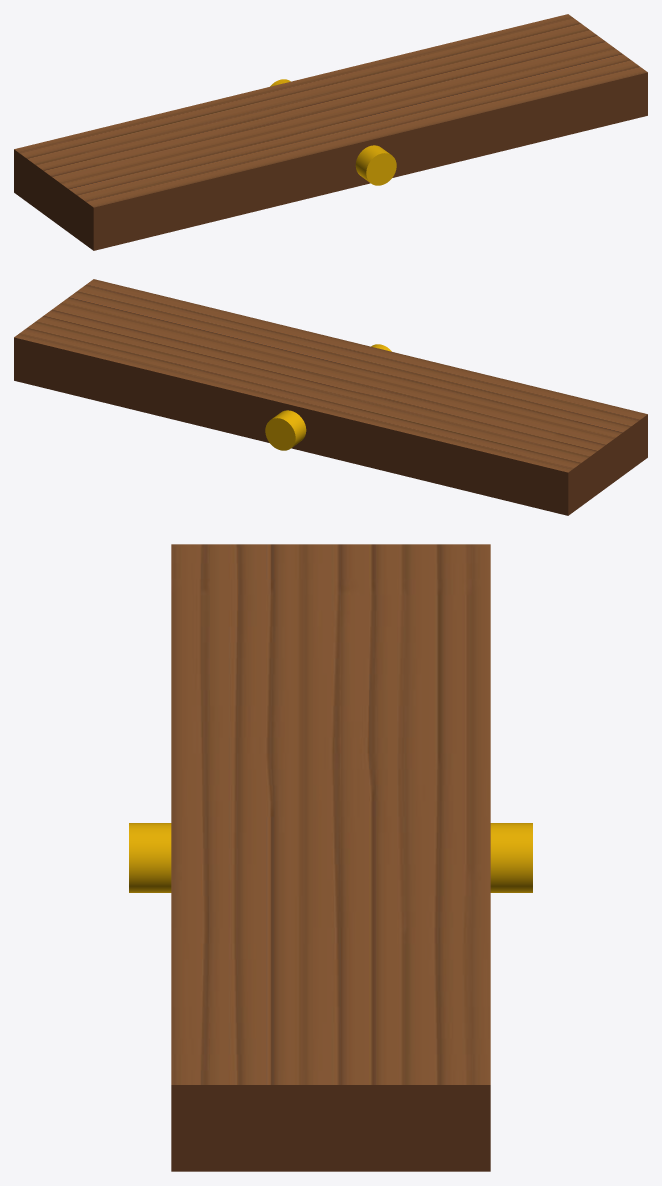
The picture shows the model from 3 angles, top to bottom: view 1: azimuth 30°, elevation 25°; view 2: azimuth 150°, elevation 25°; view 3: azimuth 270°, elevation 25°; orthographic projection. The views are drawn at different scales.
Parts seen in each view (by area): view 1: Balance_Plane; view 2: Balance_Plane; view 3: Balance_Plane.
Boxes of the visible parts, x1,y1,x2,y2 form: Balance_Plane: (14, 14, 647, 250); Balance_Plane: (14, 279, 647, 515); Balance_Plane: (129, 544, 532, 1171).
Size of what is drawn, in the model's own units: 8.02 by 0.5993 by 2.53.
Materials: 2 (1 with a texture image).
